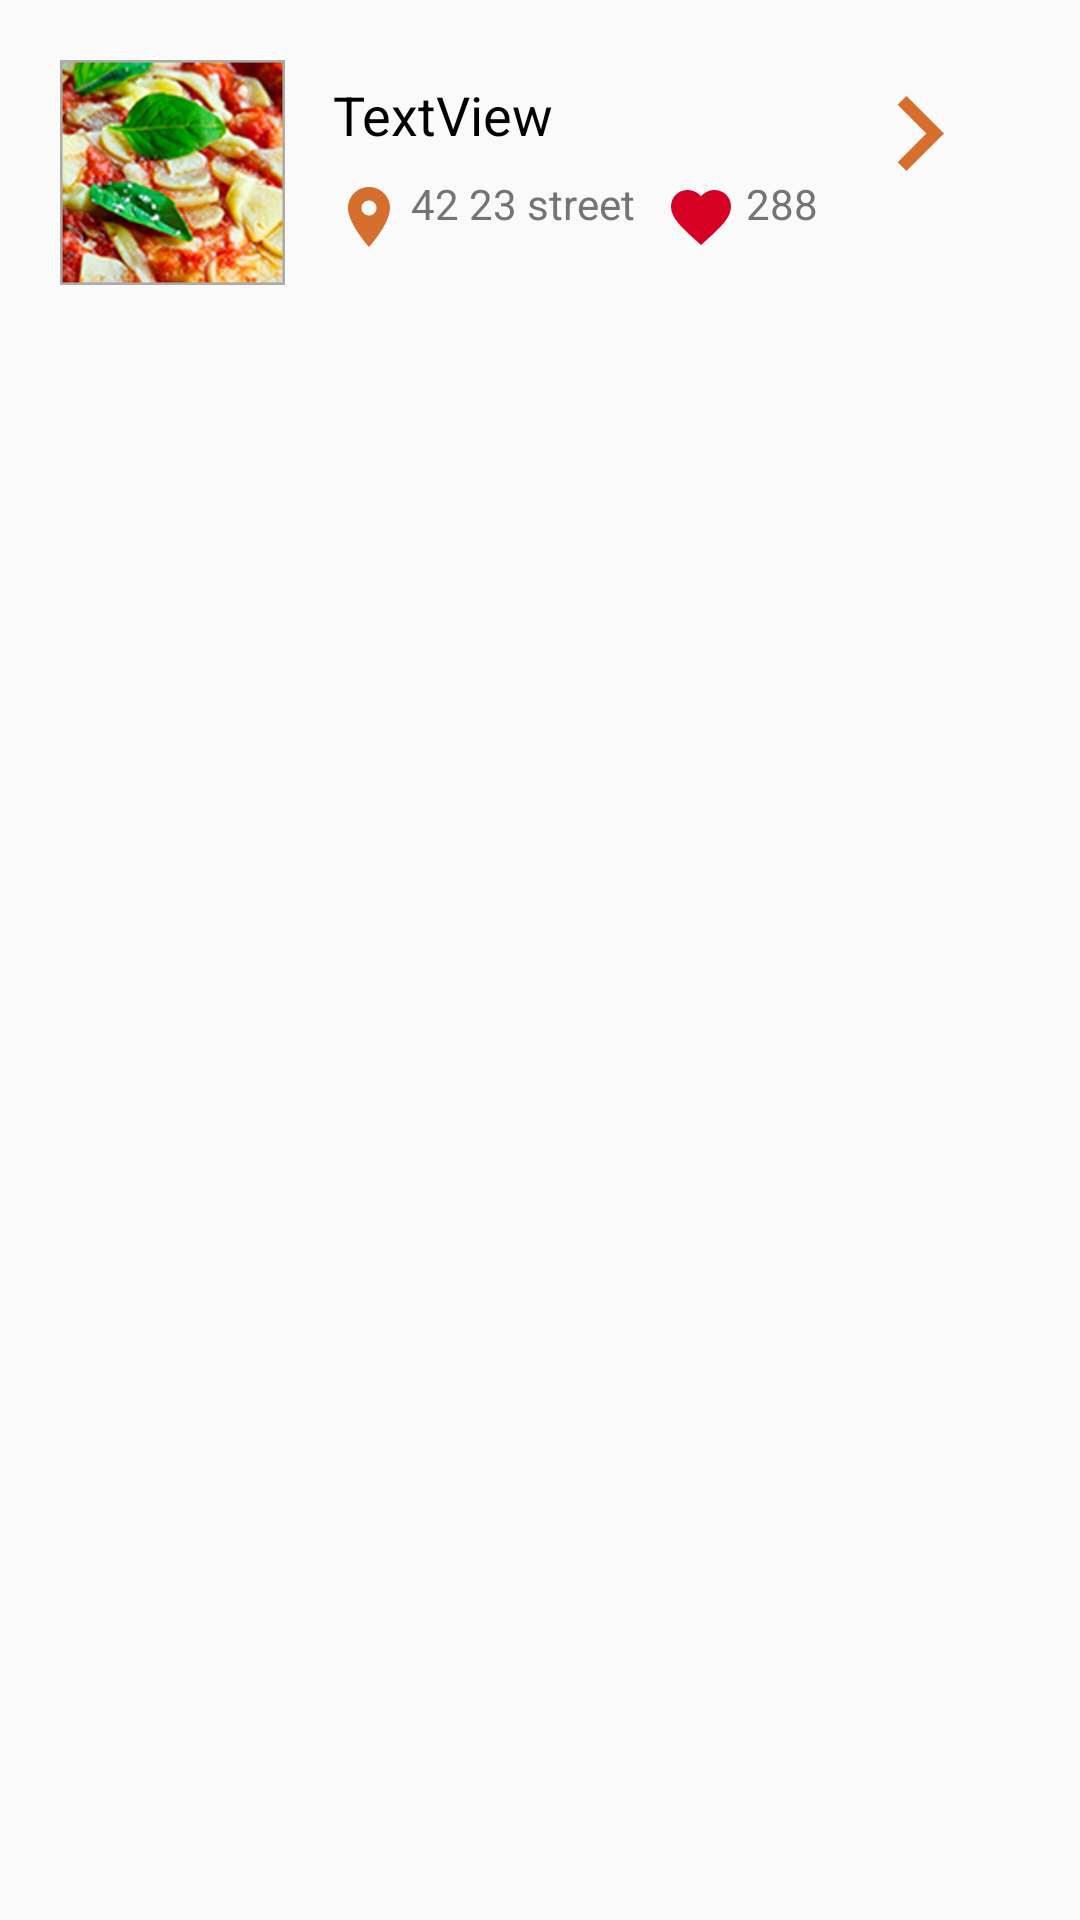

Where to tap for icons on this 1080px x 1920px app screen, as [x,y]:
favorite: [701,217]
keyboard arrow right: [921,133]
location on: [369,217]
